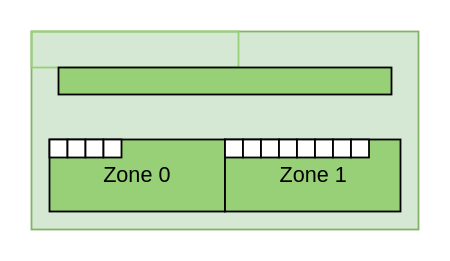
Image size: 450x261. Some labels were removed from this diagram. Here are the shapes that lost their labels. From the top down, the centre of each, then its label:
At pixel 134 49: "Zoned SSD".
At pixel 224 80: "LBA".
